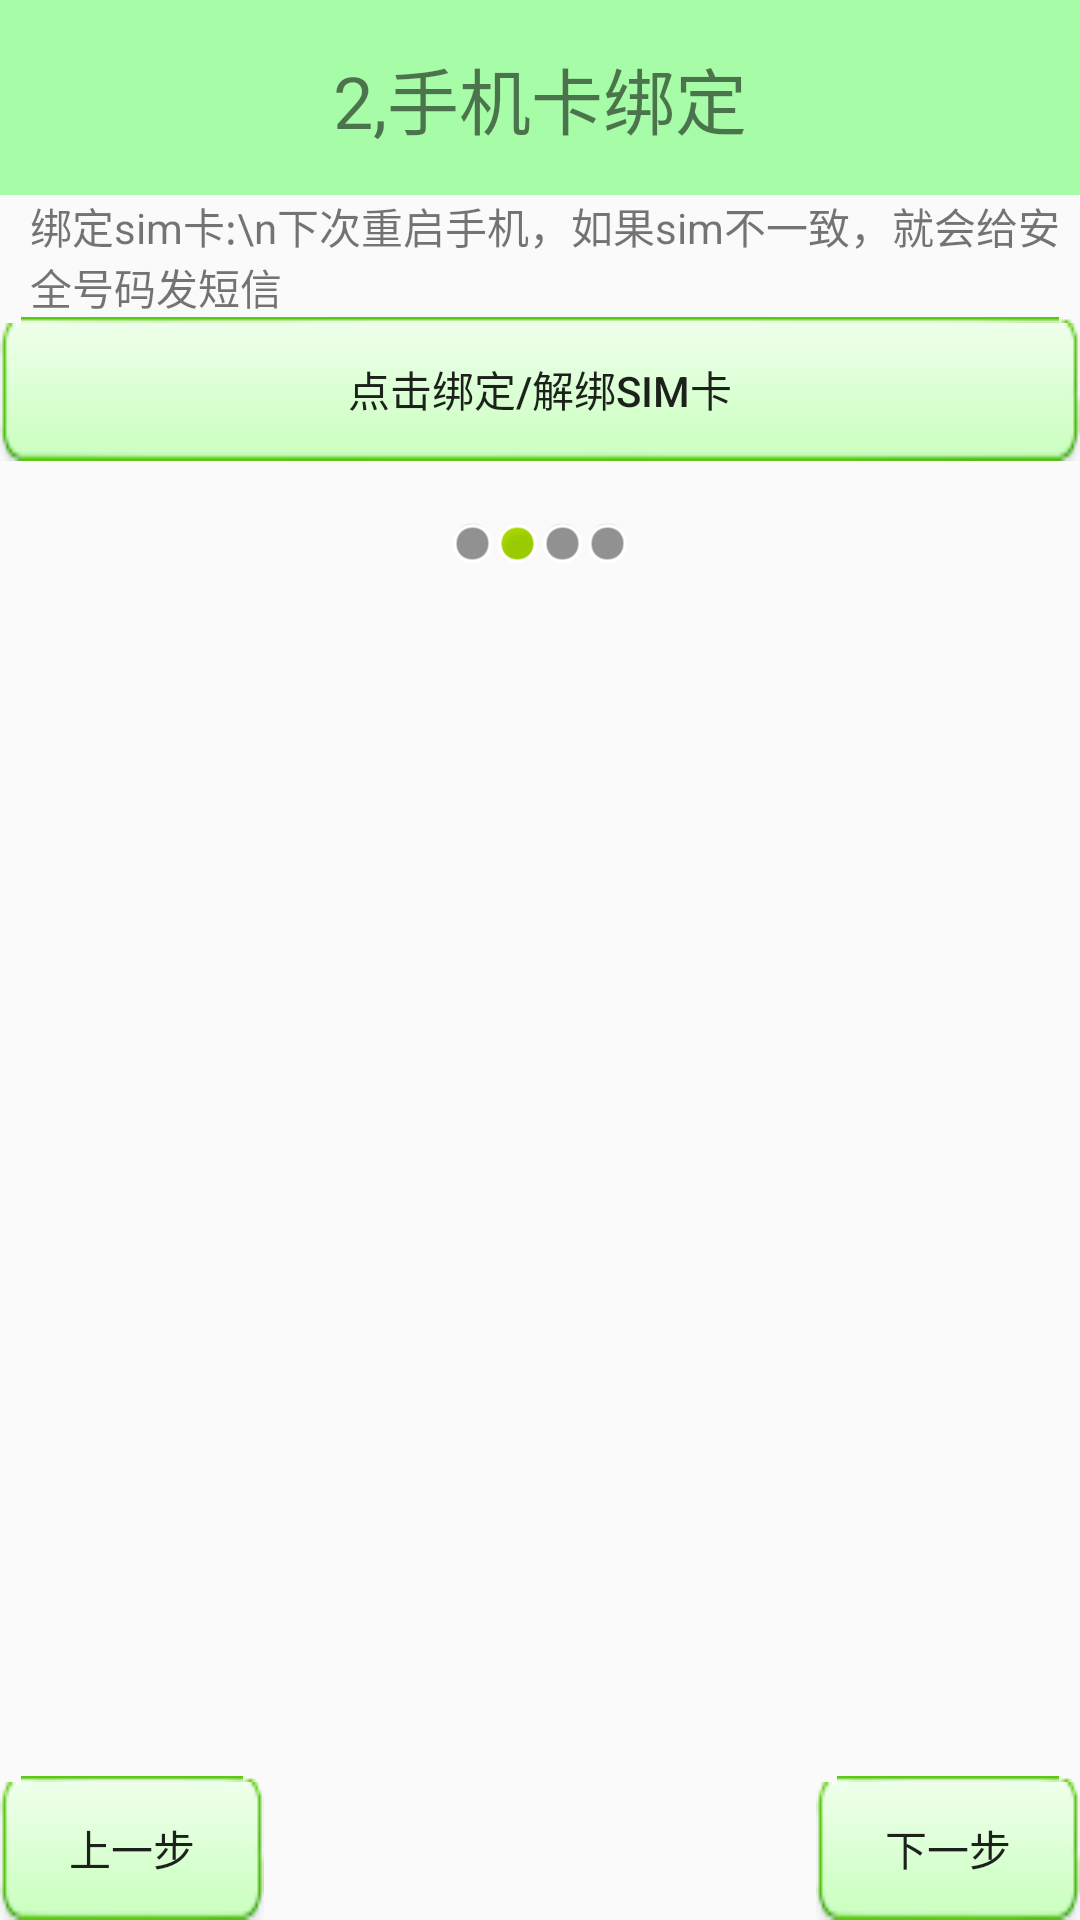

Icon click points for this 1080w x 1920h phone screenshot, format point (x, y):
presence invisible: point (472, 543), point (562, 543), point (607, 543)
presence online: point (517, 543)
